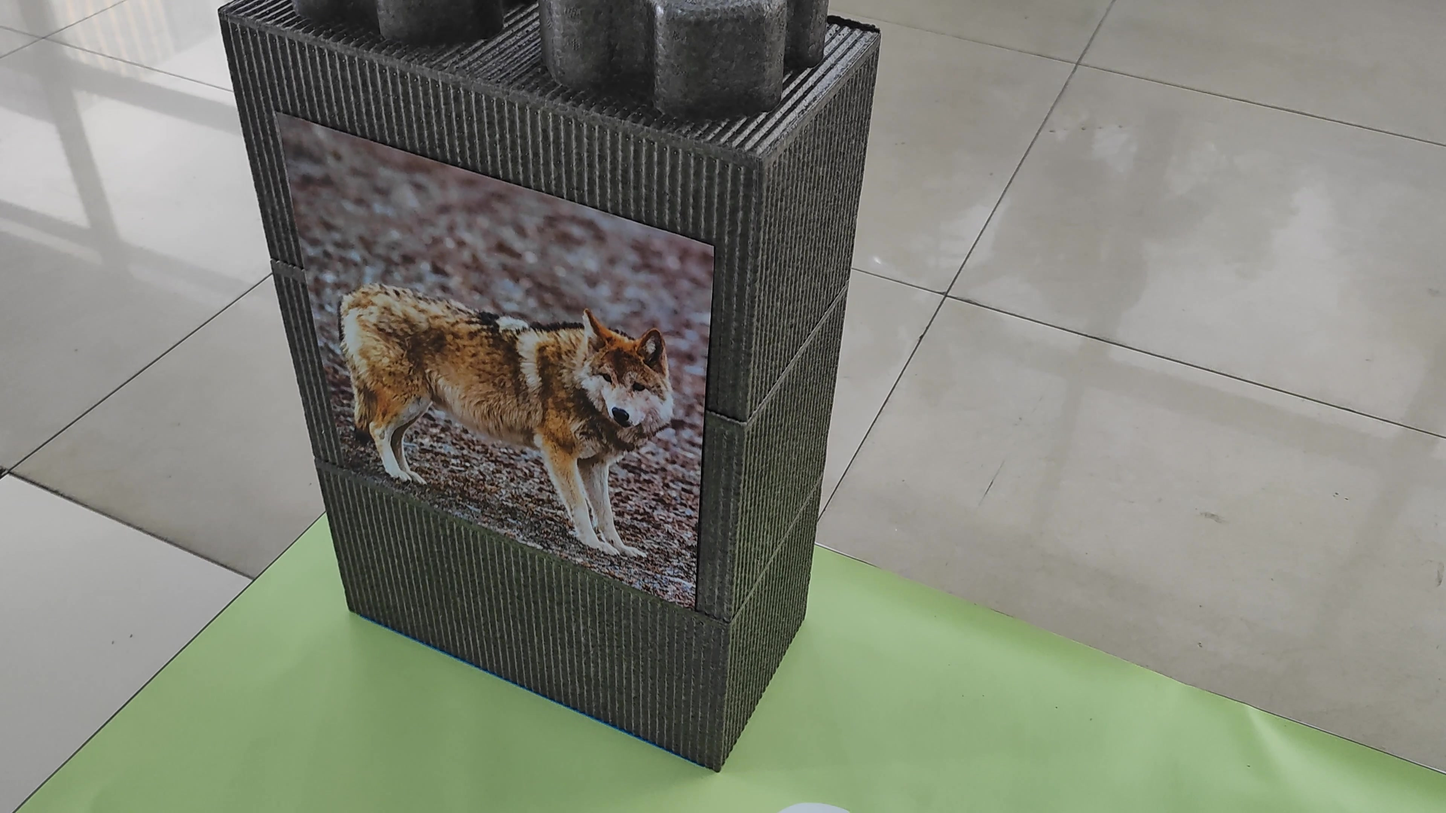wolf: (305, 219, 700, 580)
